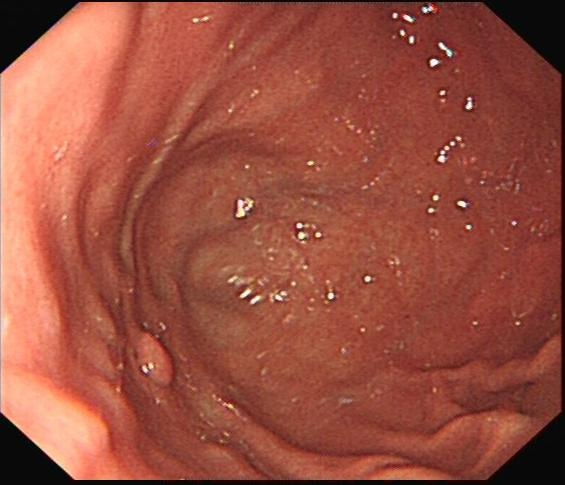Polyp: (119, 310, 185, 405)
